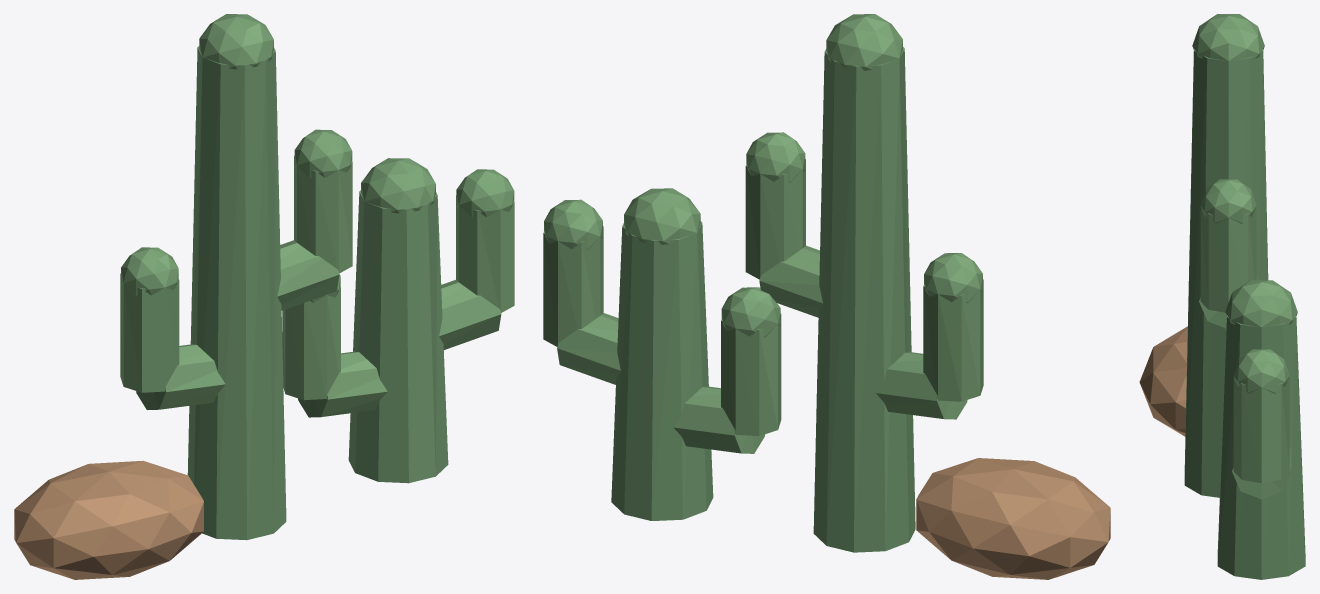
File: cactus_cluster.glb
The picture shows the model from 3 angles, left to right: view 1: azimuth 30°, elevation 25°; view 2: azimuth 150°, elevation 25°; view 3: azimuth 270°, elevation 25°; orthographic projection. The views are drawn at different scales.
Parts seen in each view (by area): view 1: large_trunk, small_trunk, rock, large_arm_v0, small_arm_v0, small_arm_v1, large_arm_v1, large_top, small_top, small_arm_h0, large_arm_h0, small_arm_h1 (+4 smaller); view 2: large_trunk, small_trunk, rock, small_arm_v0, large_arm_v0, large_arm_v1, small_arm_v1, small_top, large_top, large_arm_h0, small_arm_h0, small_arm_h1 (+5 smaller); view 3: large_trunk, small_trunk, small_arm_v1, large_arm_v1, rock, small_top, large_top, small_cap1, large_cap1, small_arm_h1, large_arm_h1.
Boxes of the visible parts, bbox=[...] form: large_trunk: bbox=[187, 46, 286, 540]; small_trunk: bbox=[348, 190, 448, 483]; rock: bbox=[14, 460, 203, 579]; large_arm_v0: bbox=[120, 273, 179, 392]; small_arm_v0: bbox=[282, 285, 340, 400]; small_arm_v1: bbox=[456, 195, 514, 312]; large_arm_v1: bbox=[294, 155, 352, 273]; large_top: bbox=[199, 14, 273, 69]; small_top: bbox=[361, 158, 435, 213]; small_arm_h0: bbox=[298, 351, 387, 417]; large_arm_h0: bbox=[136, 344, 225, 409]; small_arm_h1: bbox=[439, 280, 501, 349]; large_trunk: bbox=[813, 47, 915, 552]; small_trunk: bbox=[611, 221, 713, 520]; rock: bbox=[916, 458, 1110, 579]; small_arm_v0: bbox=[721, 314, 781, 436]; large_arm_v0: bbox=[923, 279, 983, 401]; large_arm_v1: bbox=[745, 159, 805, 279]; small_arm_v1: bbox=[543, 226, 603, 346]; small_top: bbox=[624, 188, 700, 244]; large_top: bbox=[826, 14, 902, 70]; large_arm_h0: bbox=[876, 352, 967, 419]; small_arm_h0: bbox=[673, 386, 764, 453]; small_arm_h1: bbox=[557, 313, 620, 384]; large_trunk: bbox=[1184, 49, 1268, 497]; small_trunk: bbox=[1217, 315, 1305, 579]; small_arm_v1: bbox=[1233, 376, 1289, 483]; large_arm_v1: bbox=[1200, 206, 1256, 312]; rock: bbox=[1139, 326, 1187, 436]; small_top: bbox=[1225, 280, 1297, 327]; large_top: bbox=[1192, 14, 1264, 61]; small_cap1: bbox=[1233, 349, 1289, 393]; large_cap1: bbox=[1200, 179, 1256, 223]; small_arm_h1: bbox=[1232, 447, 1291, 499]; large_arm_h1: bbox=[1199, 277, 1257, 328].
Size of the model in its own units: 1.69 by 1.58 by 0.5031.
